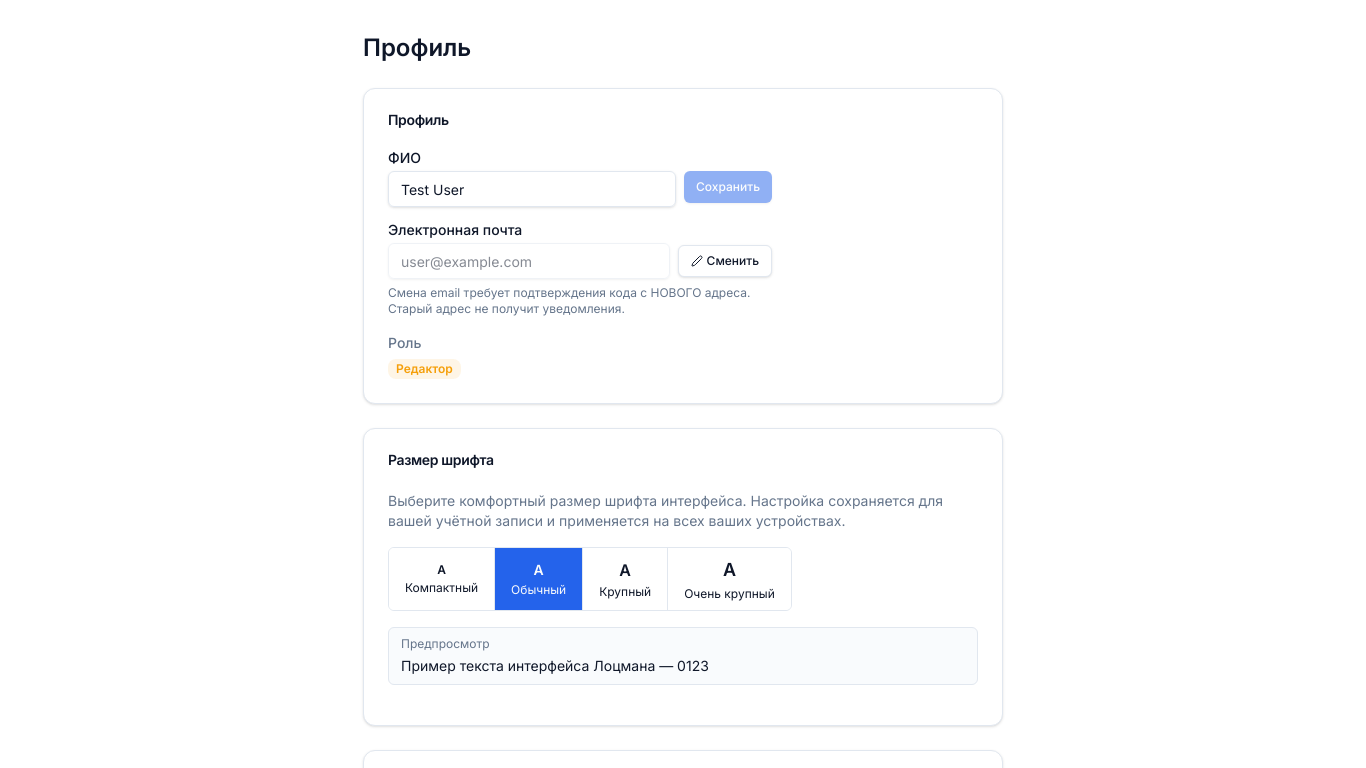
Test: EmailChangeDialog — open/close › closes dialog when Cancel is clicked
Expected: the field showing "user@example.com" is shown, [388,243,670,279]
Click the button "Сменить" at x=725, y=261, box [678,245,772,277]
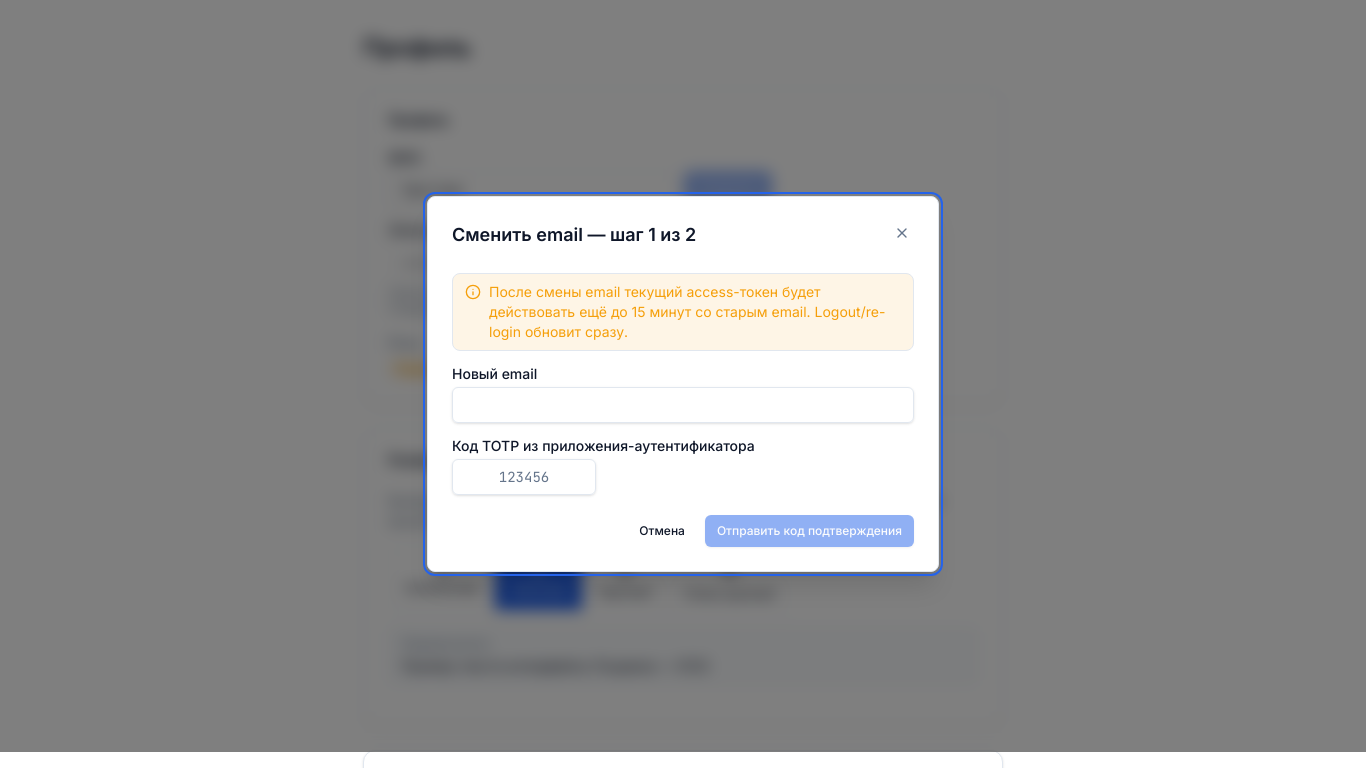
Expected: the dialog is shown, [427,196,939,572]
Click the button "Отмена" at x=662, y=531, box [627,515,697,547]
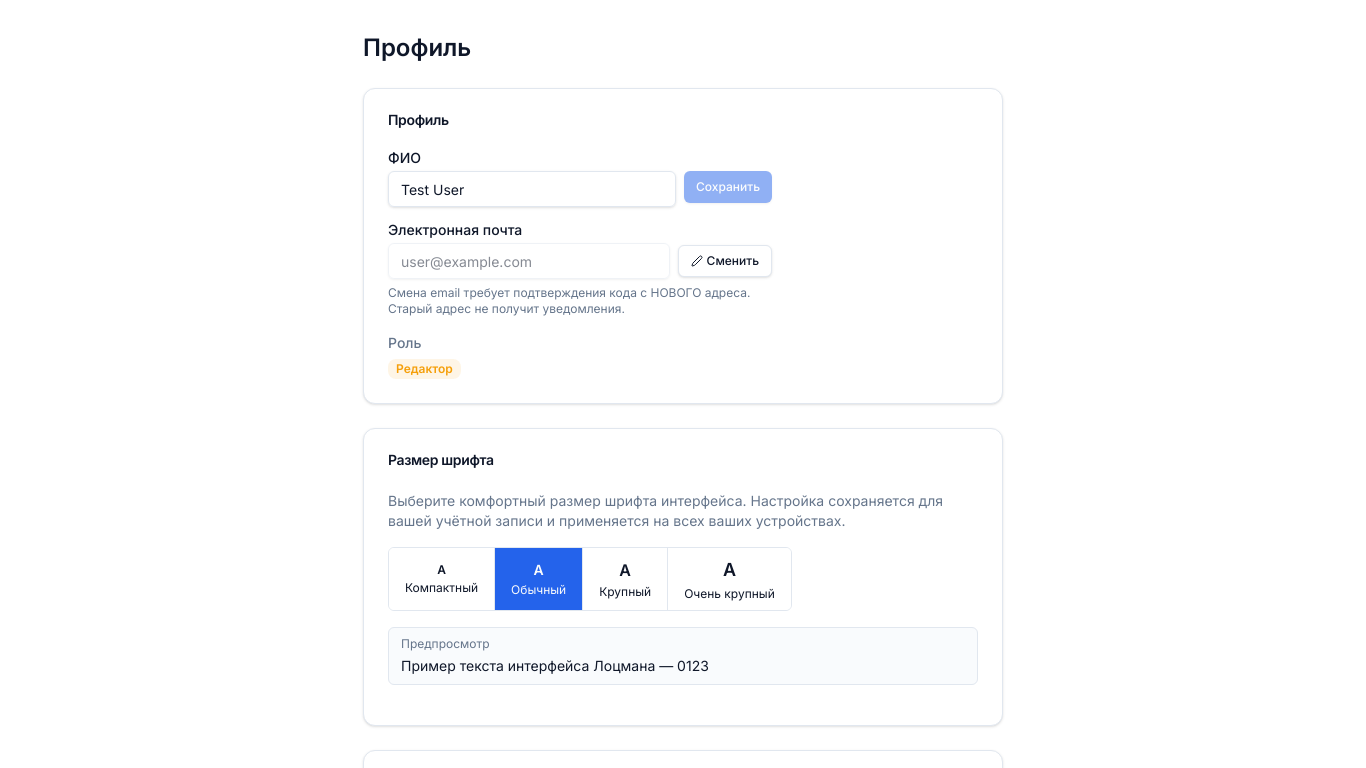
Expected: the dialog is gone
